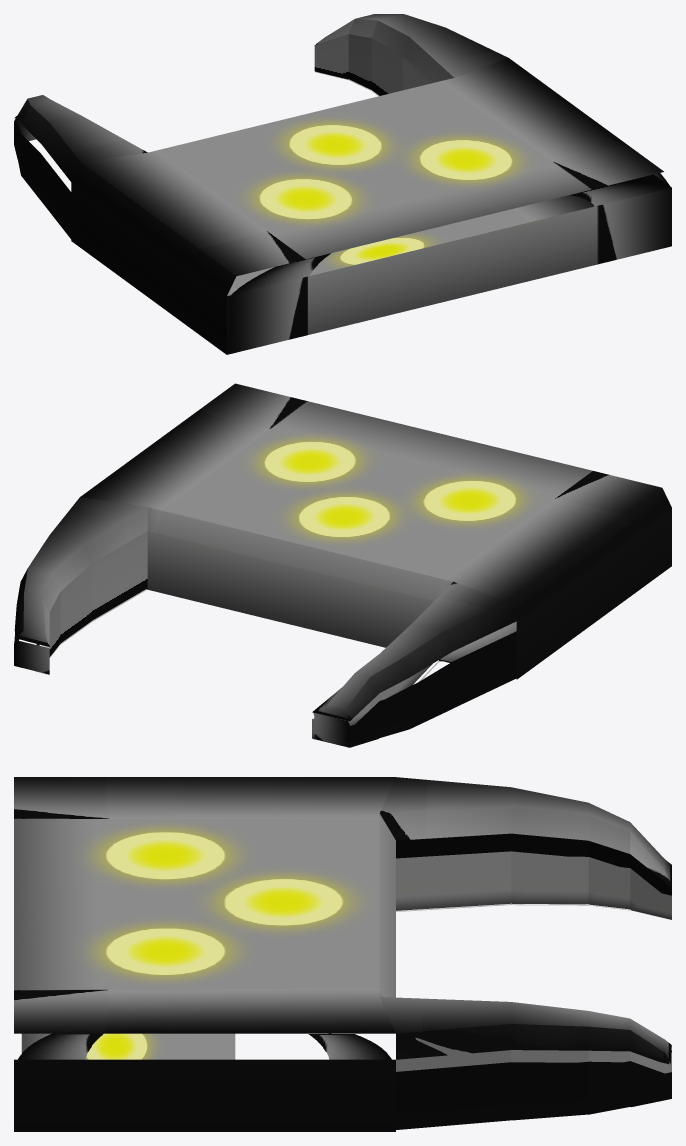
The model's file is BossClaw.FBX.
The picture shows the model from 3 angles, top to bottom: view 1: azimuth 30°, elevation 25°; view 2: azimuth 150°, elevation 25°; view 3: azimuth 270°, elevation 25°; orthographic projection. The views are drawn at different scales.
Visible parts, largest first — view 1: BossClaw; view 2: BossClaw; view 3: BossClaw.
Part boxes in pixels (x1,y1,x2,y2): BossClaw: (14,14,671,354); BossClaw: (14,383,671,747); BossClaw: (14,777,671,1131).
Bounding box in the file's own units: 62.84 × 10.29 × 65.5.
Materials: 1 (1 with a texture image).
